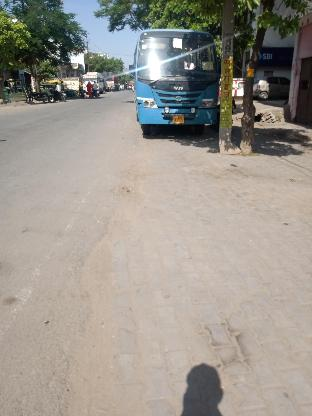bus: (128, 28, 220, 134)
